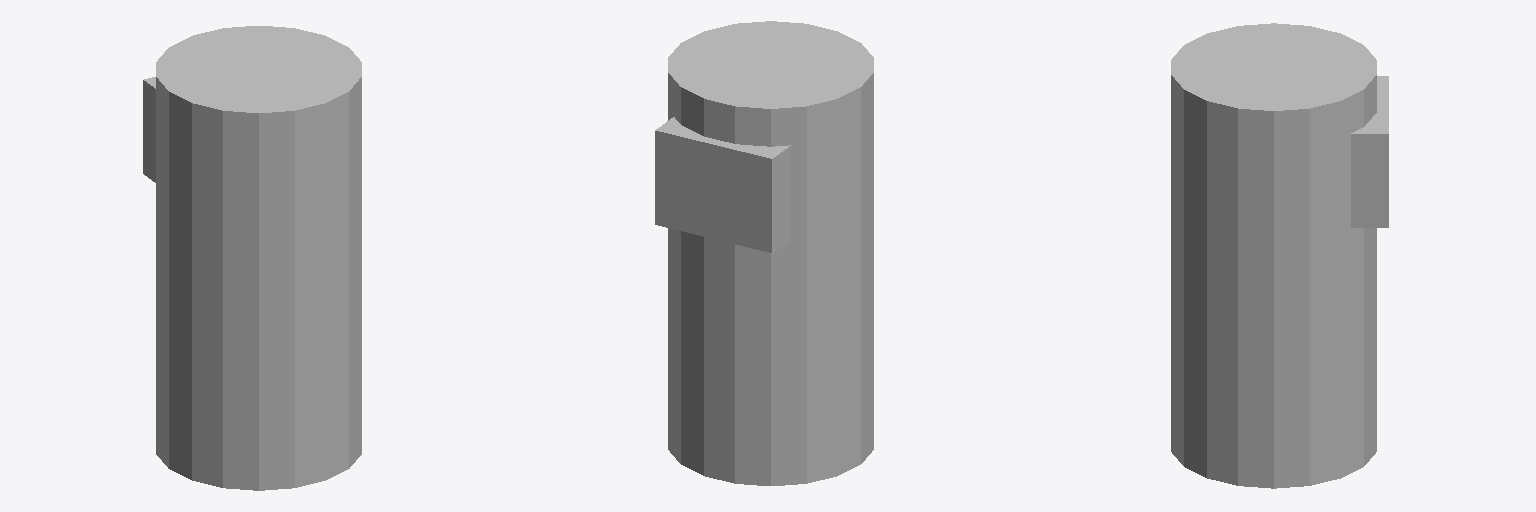
File: enemy.obj
3 renders of one model, left to right at view 1: azimuth 30°, elevation 25°; view 2: azimuth 150°, elevation 25°; view 3: azimuth 270°, elevation 25°, orthographic.
Visible parts, largest first — view 1: Enemy; view 2: Enemy; view 3: Enemy.
Boxes of the visible parts, <box> form: Enemy: <box>143,26,361,490</box>; Enemy: <box>655,21,873,485</box>; Enemy: <box>1171,23,1388,488</box>.
Size of the model in its own units: 1 by 2 by 1.04.